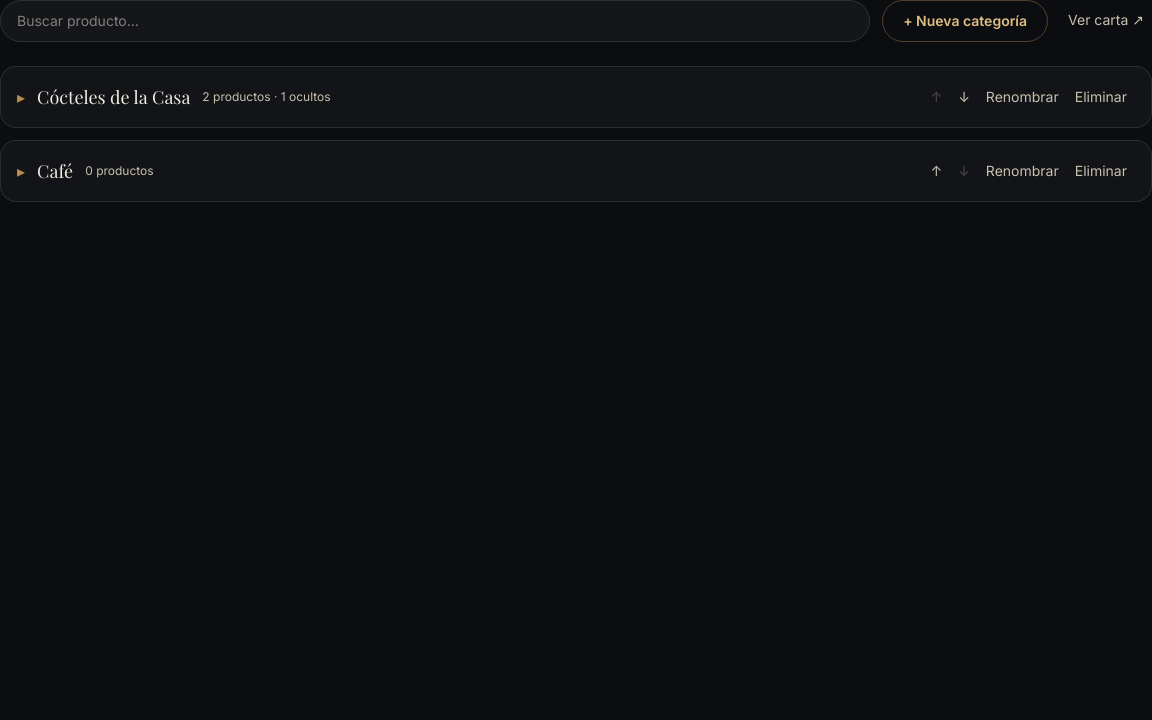
Test case: MenuEditor › shows the server's reason when a save fails and keeps the dialog open
Click the text "Cócteles de la Casa": (114, 97) [37, 83, 190, 111]
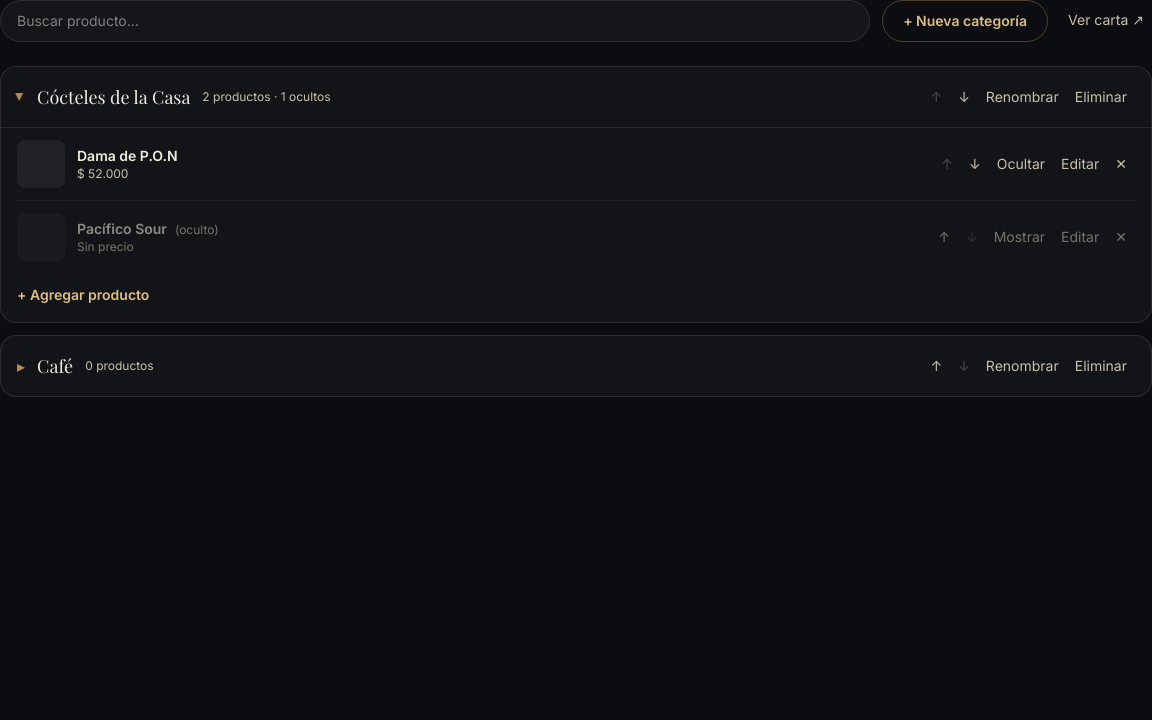
Click the button "Editar" in the row of "Dama de P.O.N": (1080, 164) [1053, 150, 1107, 178]
(page scrolled)
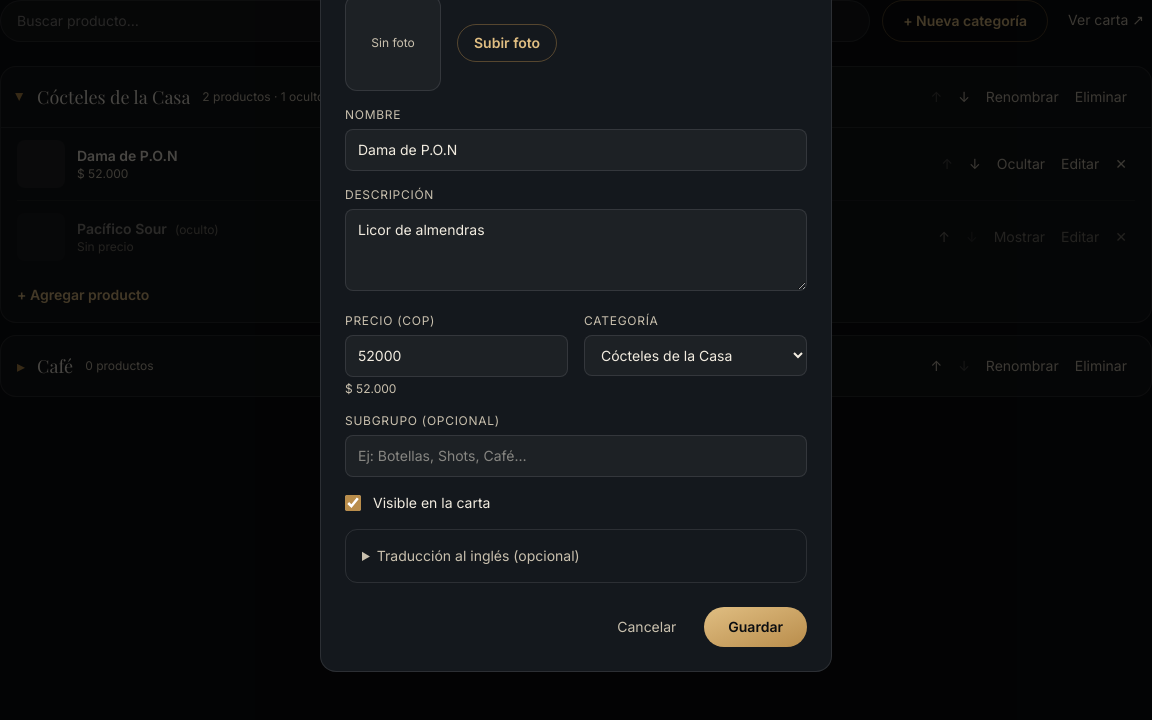
Click the button "Guardar": (756, 627) [704, 607, 807, 647]
(page scrolled)
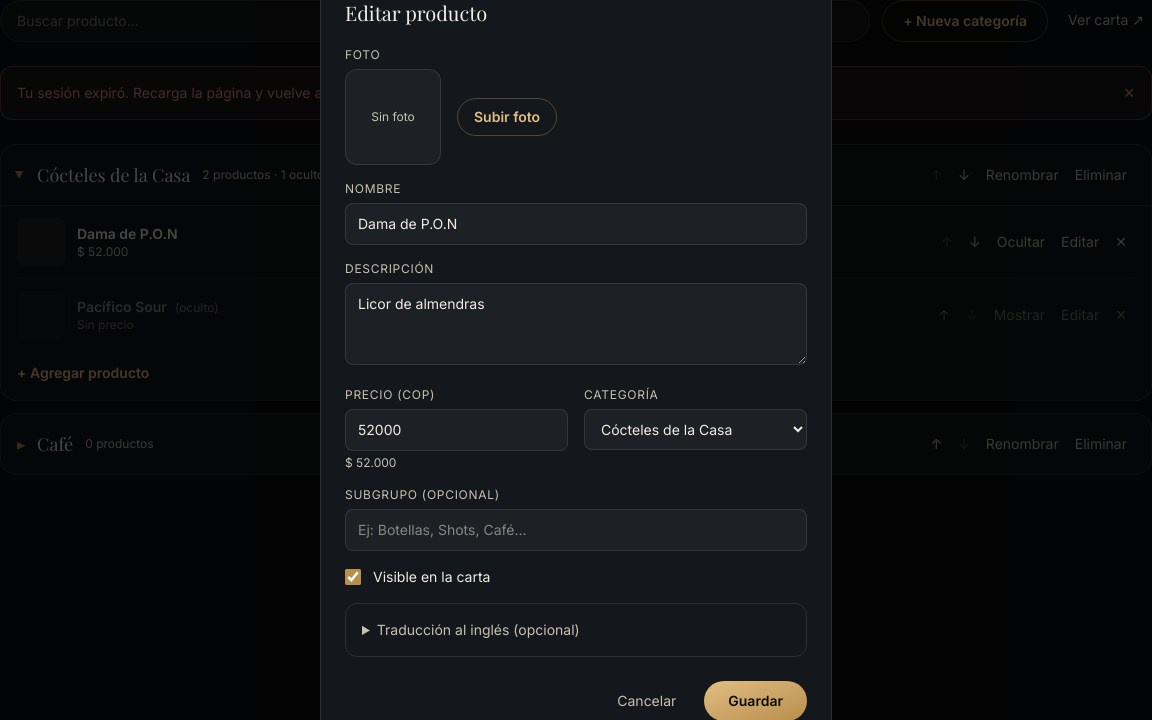
Expected: the dialog is shown, [320, 0, 832, 719]
Expected: the text "Tu sesión expiró. Recarga la página y vuelve a entrar." is shown, [17, 83, 369, 103]
